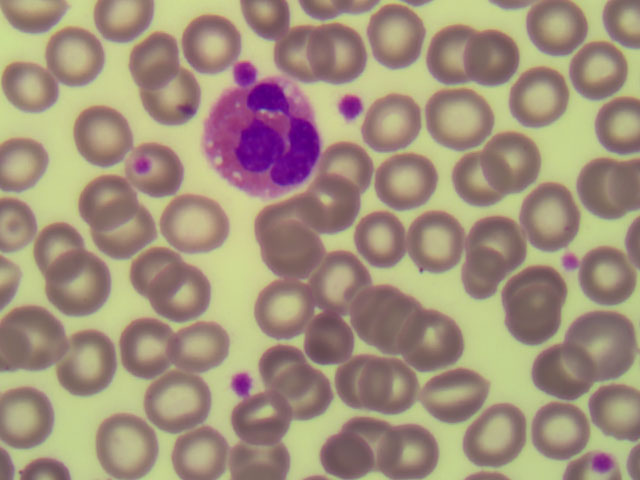Platelets: (227, 59, 260, 87), (330, 96, 366, 118), (229, 375, 257, 398), (561, 249, 580, 271)
RBC: (225, 423, 279, 480), (167, 423, 221, 480), (310, 423, 364, 480), (377, 423, 431, 480), (123, 141, 177, 197), (73, 106, 127, 162), (6, 61, 60, 117), (45, 29, 99, 85), (98, 1, 152, 57), (130, 32, 184, 88), (144, 65, 198, 121), (183, 17, 237, 73), (2, 138, 56, 194), (33, 219, 87, 275), (50, 258, 104, 314), (6, 310, 60, 366), (60, 336, 114, 392), (4, 391, 58, 447), (115, 320, 169, 376), (171, 316, 225, 372), (154, 267, 208, 323), (127, 240, 181, 296), (167, 195, 221, 251), (98, 206, 152, 262), (77, 173, 131, 229), (254, 222, 308, 278), (256, 188, 310, 244), (306, 173, 360, 229), (315, 140, 369, 196), (371, 93, 425, 149), (314, 27, 368, 83), (275, 24, 329, 80), (369, 10, 423, 66), (424, 26, 478, 82), (464, 27, 518, 83), (530, 5, 584, 61), (564, 38, 618, 94), (521, 66, 575, 122), (436, 86, 490, 142), (456, 148, 510, 204), (493, 128, 547, 184), (525, 186, 579, 242), (582, 159, 636, 215), (474, 217, 528, 273), (448, 249, 502, 305), (409, 218, 463, 274), (355, 215, 409, 271), (375, 153, 429, 209), (317, 247, 371, 303), (259, 280, 313, 336), (299, 313, 353, 369), (262, 330, 316, 386), (273, 362, 327, 418), (233, 393, 287, 449), (149, 380, 203, 436), (100, 416, 154, 472), (340, 411, 394, 467), (360, 354, 414, 410), (329, 350, 383, 406), (402, 315, 456, 371), (371, 300, 425, 356), (354, 286, 408, 342), (424, 360, 478, 416), (461, 400, 515, 456), (529, 342, 583, 398), (571, 310, 625, 366), (504, 292, 558, 348), (502, 263, 556, 319), (586, 242, 640, 298), (586, 370, 640, 426), (530, 401, 584, 457)
WBC: (203, 87, 323, 190)
